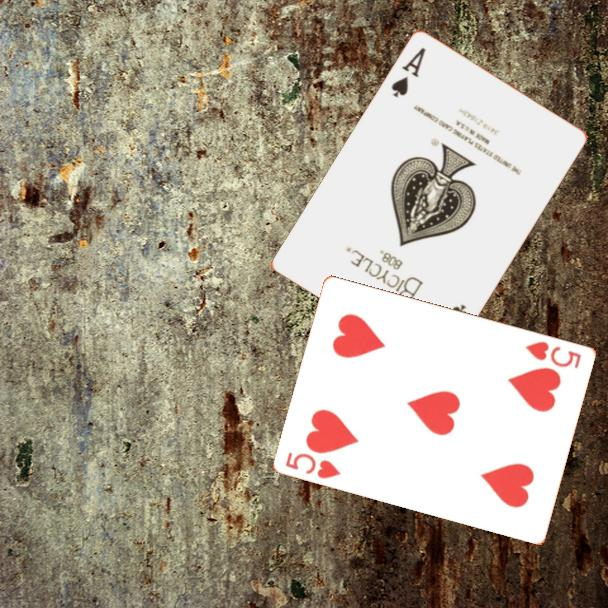h05: (522, 337, 584, 371), (282, 448, 344, 481)
s01: (388, 44, 429, 101)
